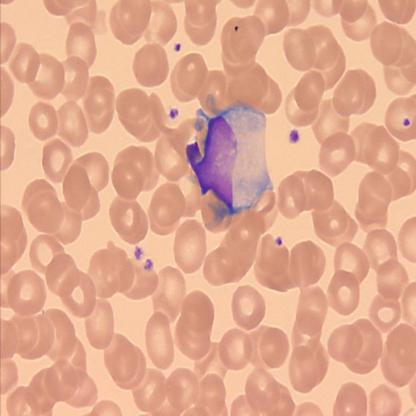Atypical lymphocyte: (180, 92, 279, 226)
